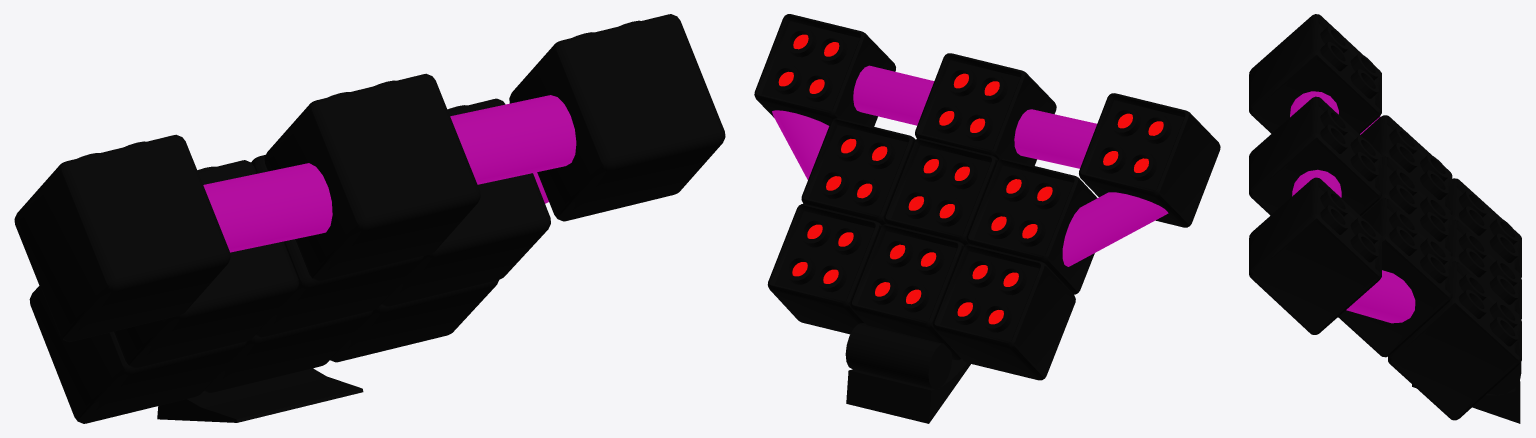
The model's file is ariltry_7.fbx.
3 renders of one model, left to right at view 1: azimuth 30°, elevation 25°; view 2: azimuth 150°, elevation 25°; view 3: azimuth 270°, elevation 25°, orthographic. The views are drawn at different scales.
Parts seen in each view (by area): view 1: main; view 2: main; view 3: main.
Boxes of the visible parts, x1,y1,x2,y2 form: main: (14,14,725,423); main: (754,14,1220,423); main: (1249,14,1521,423).
Bounding box in the file's own units: 106 × 69.89 × 59.91.
